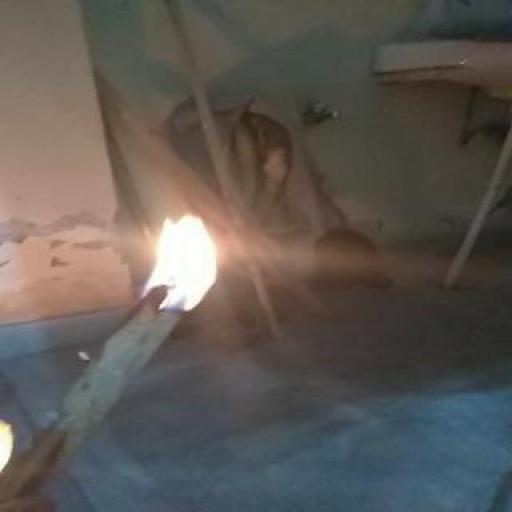smoke: (100, 192, 246, 320)
